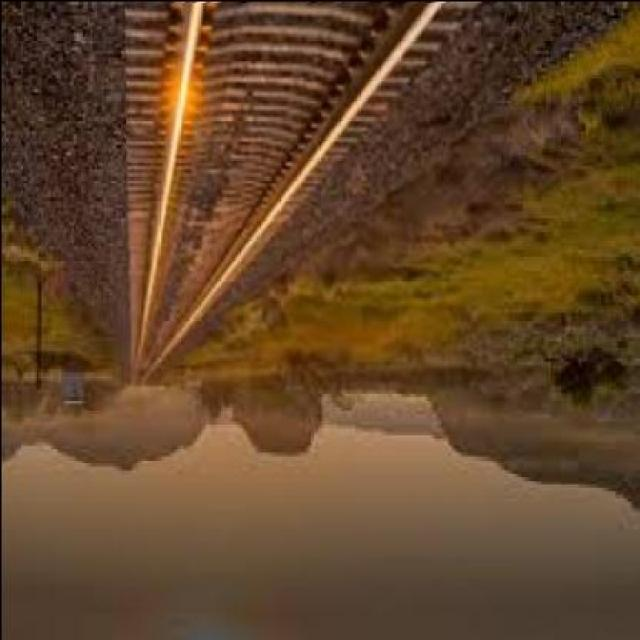rail: (126, 2, 495, 392)
